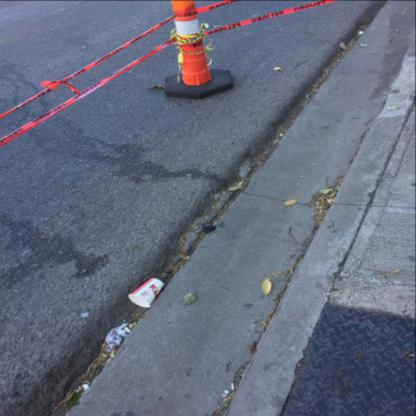Bottle: (82, 312, 90, 316)
Cigarette: (124, 326, 131, 333)
Cup: (128, 277, 164, 307)
Paper: (105, 322, 129, 352)
